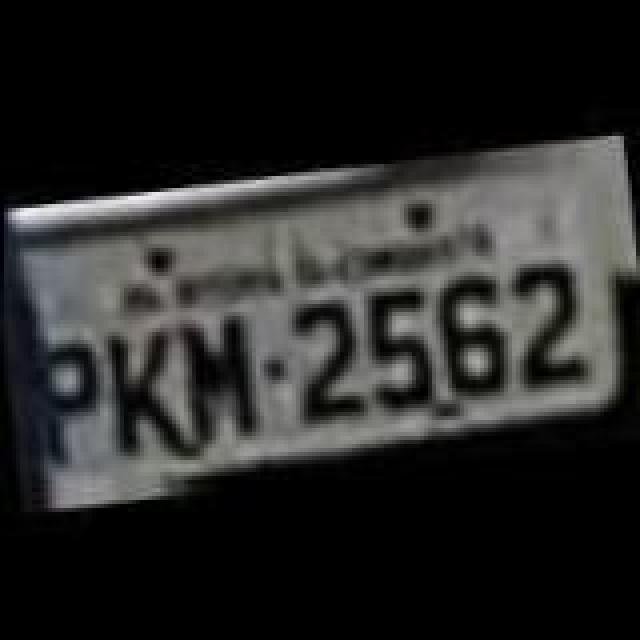2: (496, 250, 592, 390), (284, 294, 368, 418)
5: (358, 278, 442, 414)
6: (422, 266, 514, 402)
K: (98, 314, 186, 458)
M: (170, 300, 266, 444)
P: (24, 332, 116, 468)
